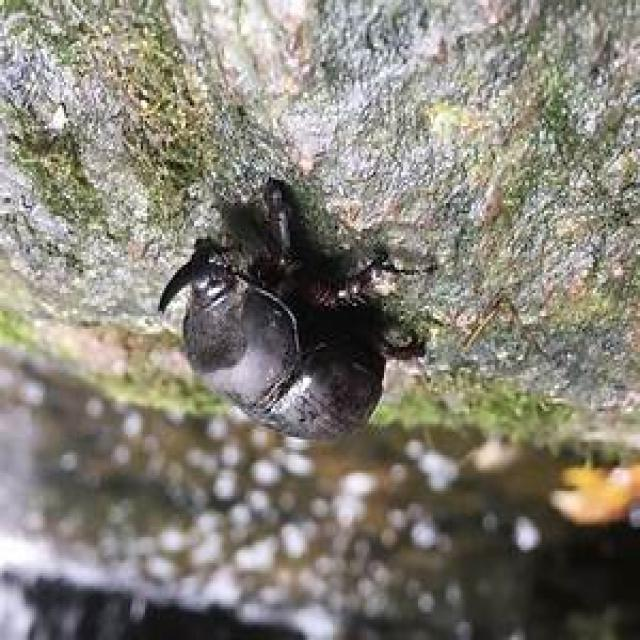Rhino-beetle: (139, 157, 409, 455)
